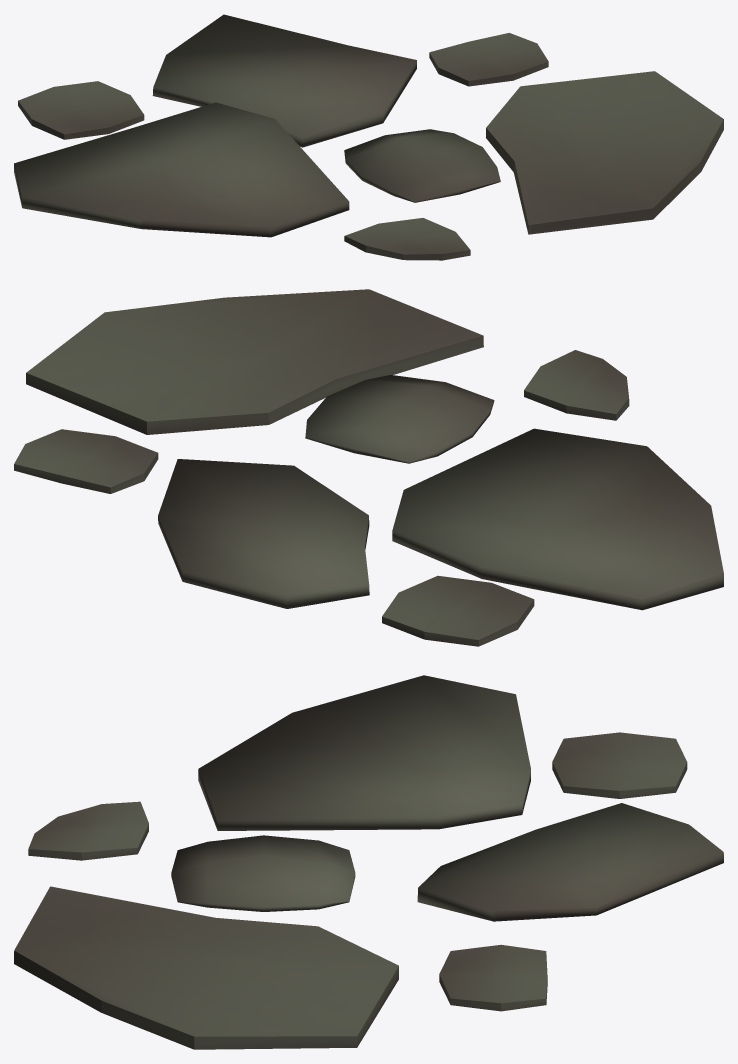
Rendered from StonePath2.fbx.
3 views of the same model, one above another, from view 1: azimuth 30°, elevation 25°; view 2: azimuth 150°, elevation 25°; view 3: azimuth 270°, elevation 25° (orthographic). The views are drawn at different scales.
Visible parts, largest first — view 1: StonePath2; view 2: StonePath2; view 3: StonePath2.
Boxes of the visible parts, x1,y1,x2,y2 form: StonePath2: (14, 14, 723, 260); StonePath2: (14, 289, 723, 646); StonePath2: (14, 675, 723, 1049).
Bounding box in the file's own units: 1.98 × 0.1215 × 1.65.
